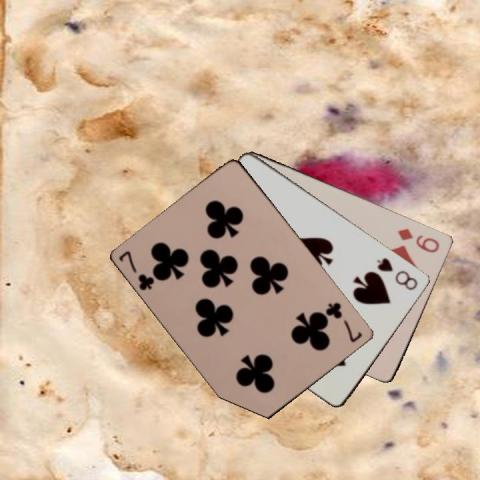7c: (116, 247, 157, 293), (323, 299, 364, 344)
8s: (373, 254, 420, 292)
9d: (395, 225, 441, 254)
